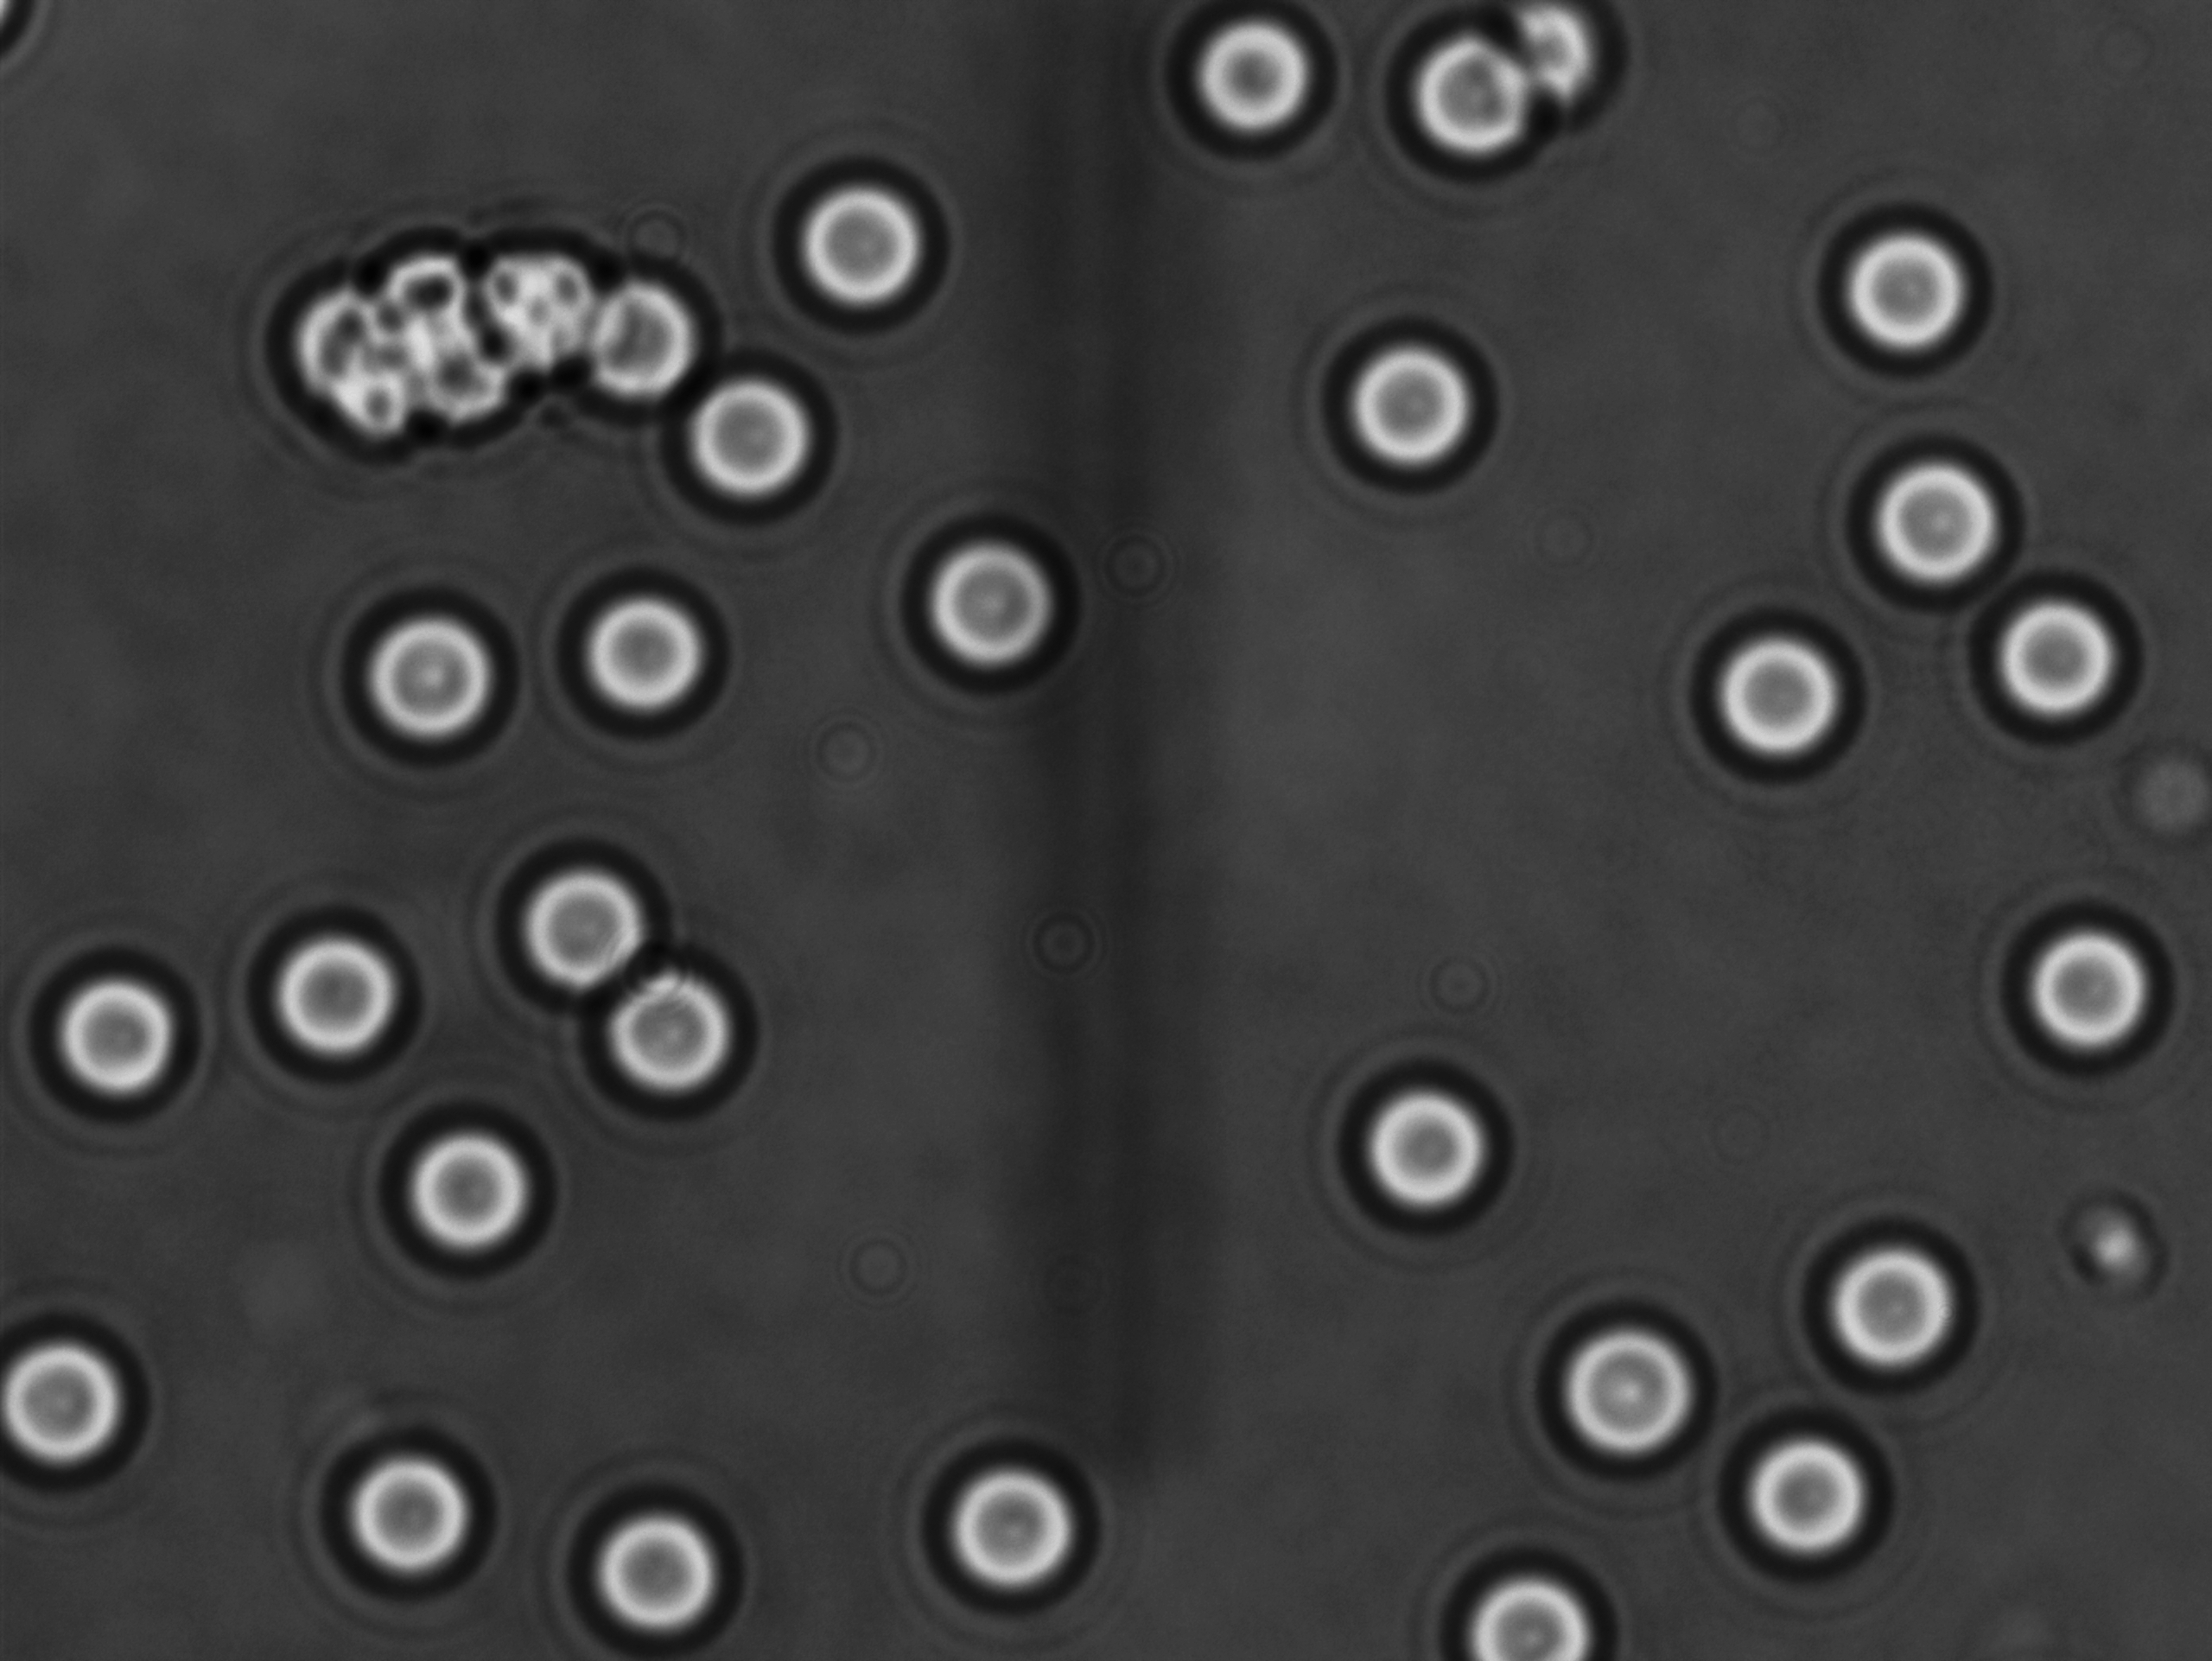depth:60: (1296, 283, 1511, 504), (1661, 579, 1868, 797), (1823, 410, 2043, 614), (1308, 1052, 1530, 1251), (883, 508, 1099, 707), (1772, 1200, 1989, 1398), (298, 1405, 515, 1602), (550, 541, 754, 743), (918, 1431, 1127, 1626), (1983, 883, 2189, 1080), (553, 1471, 766, 1661), (654, 330, 862, 523), (1703, 1389, 1905, 1584), (1521, 1288, 1718, 1480), (1807, 192, 2006, 379), (377, 1085, 579, 1267), (242, 892, 448, 1070), (330, 576, 525, 762), (588, 942, 775, 1134), (1957, 562, 2144, 754), (487, 825, 679, 1008), (780, 148, 949, 326), (1418, 1527, 1622, 1661)
